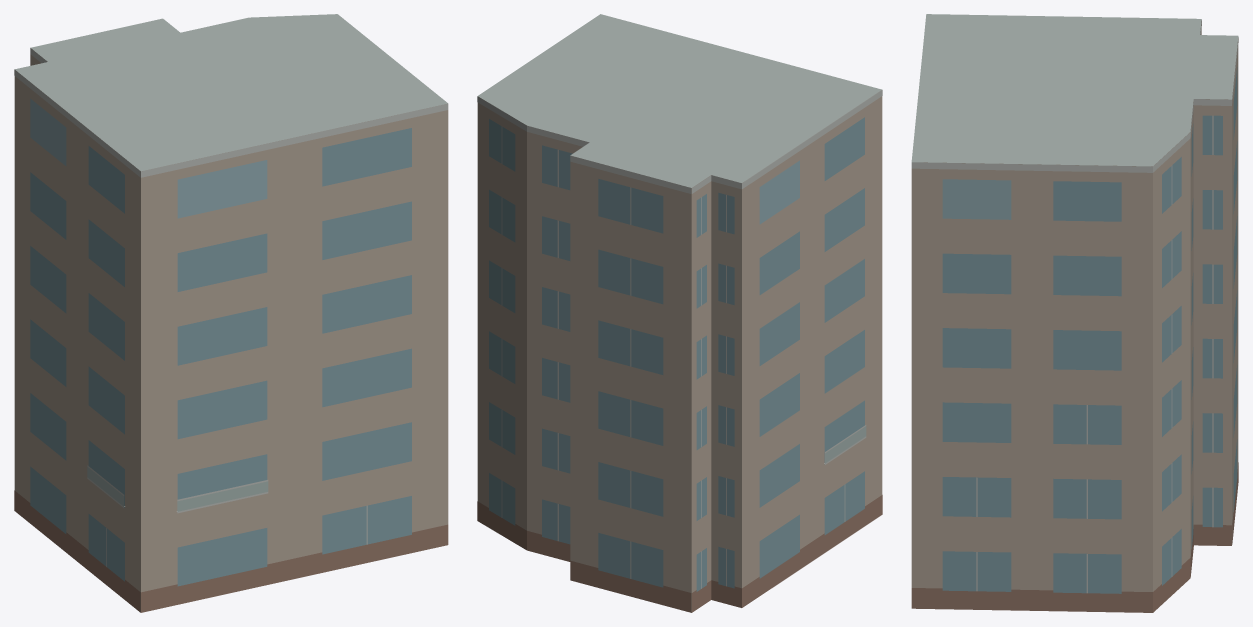
File: survey-upis-32993600.glb
3 views of the same model, side by side, from view 1: azimuth 30°, elevation 25°; view 2: azimuth 150°, elevation 25°; view 3: azimuth 270°, elevation 25° (orthographic). The views are drawn at different scales.
Parts seen in each view (by area): view 1: survey-upis-32993600.tmp; view 2: survey-upis-32993600.tmp; view 3: survey-upis-32993600.tmp.
Boxes of the visible parts, bbox=[...] form: survey-upis-32993600.tmp: bbox=[14, 14, 448, 612]; survey-upis-32993600.tmp: bbox=[477, 14, 882, 612]; survey-upis-32993600.tmp: bbox=[911, 14, 1238, 612].
Bounding box in the file's own units: 12.27 × 16.75 × 11.12.
